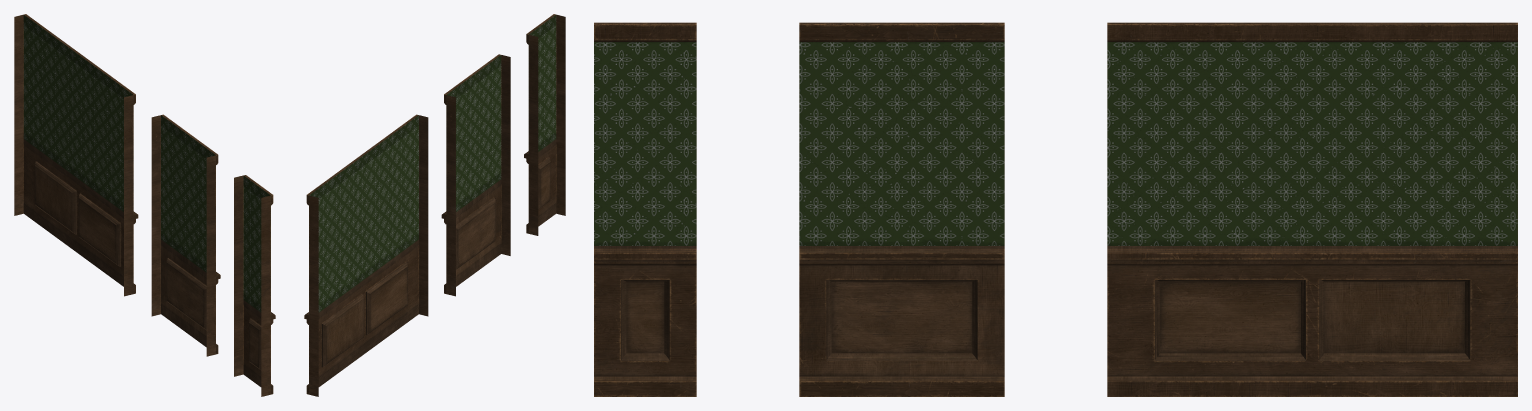
Rendered from old_wood_walls_free.glb.
3 renders of one model, left to right at view 1: azimuth 30°, elevation 25°; view 2: azimuth 150°, elevation 25°; view 3: azimuth 270°, elevation 25°, orthographic. The views are drawn at different scales.
Bounding box in the file's own units: 0.3 × 4 × 9.
1 material, 1 textured.
